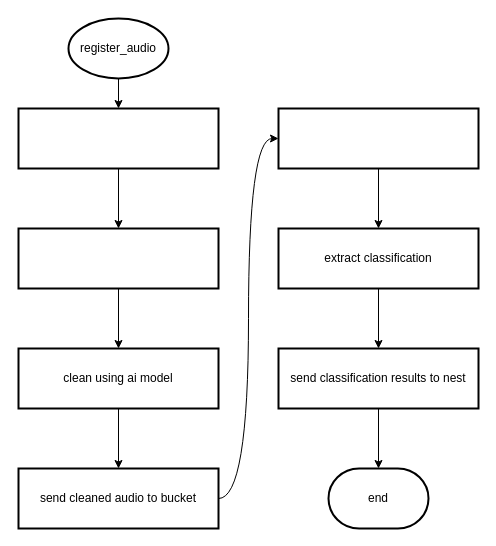
This 496x546 diagram has some shape labels left out. Each missing label, with the box of its shape:
extract mfcc from clean audio: (277, 107, 479, 169)
fetch audio from bucket: (17, 227, 219, 289)
get audio id from request: (17, 107, 219, 169)
